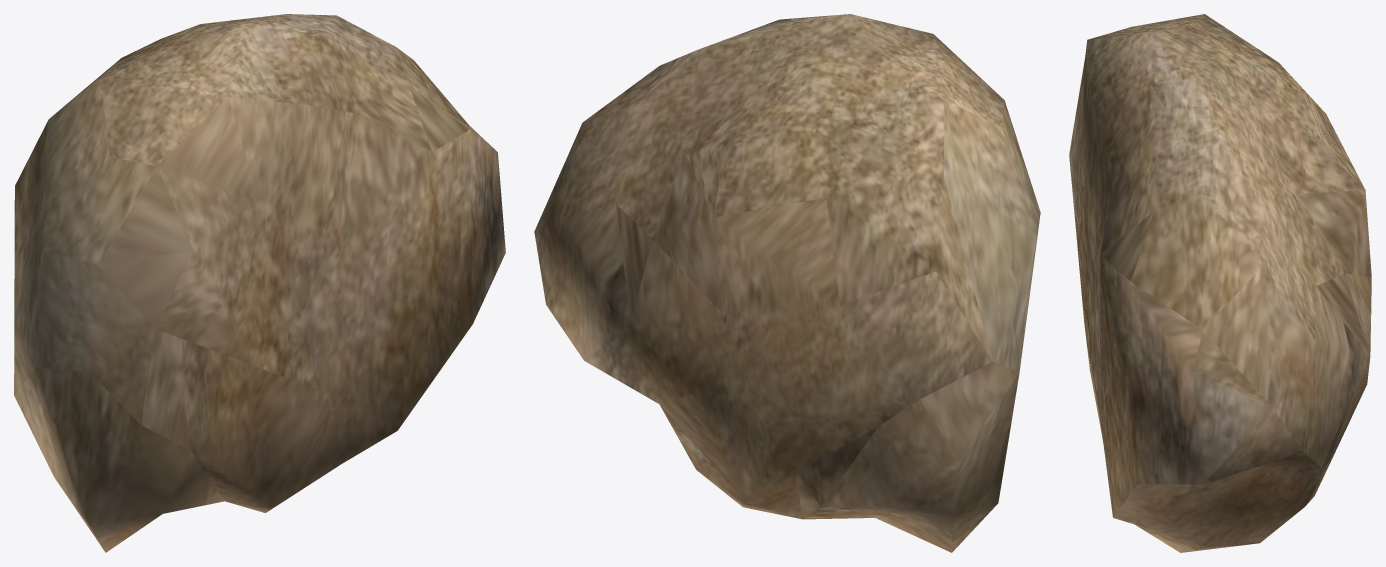
File: namaqualand_boulder_05_lo.glb
The picture shows the model from 3 angles, left to right: view 1: azimuth 30°, elevation 25°; view 2: azimuth 150°, elevation 25°; view 3: azimuth 270°, elevation 25°; orthographic projection. The views are drawn at different scales.
Parts seen in each view (by area): view 1: namaqualand_boulder_05_lo; view 2: namaqualand_boulder_05_lo; view 3: namaqualand_boulder_05_lo.
Part boxes in pixels (<box>): namaqualand_boulder_05_lo: <box>14,14,505,552</box>; namaqualand_boulder_05_lo: <box>534,14,1040,552</box>; namaqualand_boulder_05_lo: <box>1069,14,1371,552</box>.
Size of the model in its own units: 0.9558 by 0.9677 by 0.5202.
Materials: 1 (1 with a texture image).
